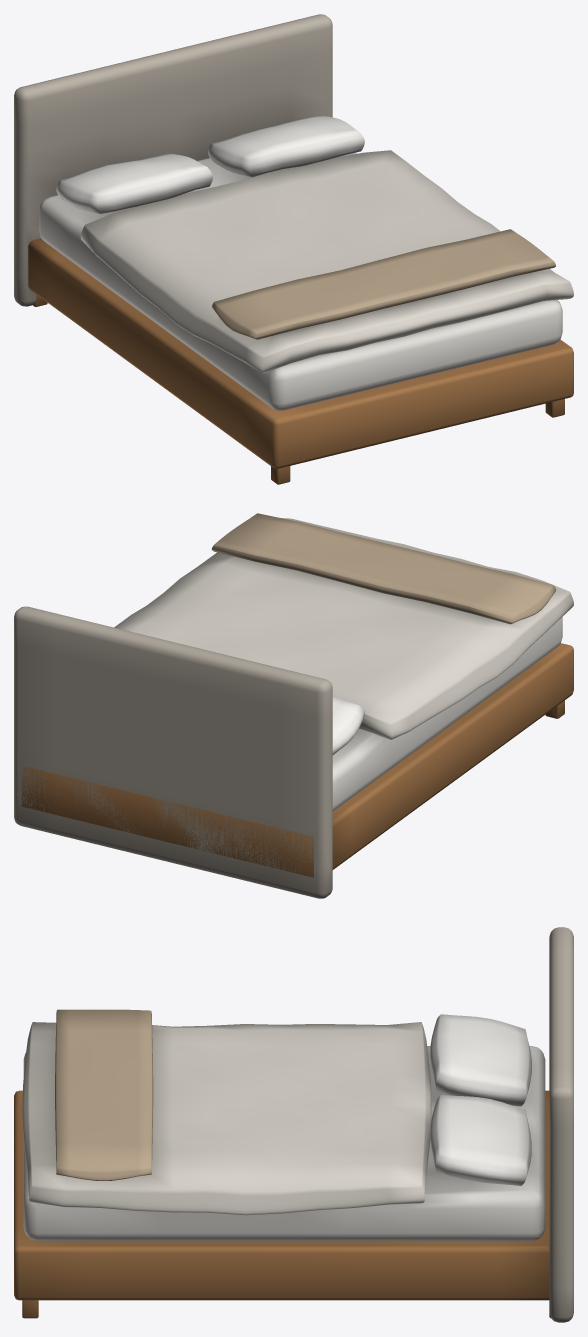
Rendered from lit140.glb.
3 renders of one model, top to bottom at view 1: azimuth 30°, elevation 25°; view 2: azimuth 150°, elevation 25°; view 3: azimuth 270°, elevation 25°, orthographic. The views are drawn at different scales.
Parts seen in each view (by area): view 1: couette, tete, cadre, matelas, plaid, oreillers; view 2: tete, couette, cadre, plaid, matelas, oreillers; view 3: couette, cadre, matelas, plaid, oreillers, tete.
Boxes of the visible parts, left/top/right/bottom form: couette: left=80, top=150, right=573, bottom=373; tete: left=14, top=14, right=332, bottom=306; cadre: left=28, top=238, right=573, bottom=484; matelas: left=39, top=152, right=562, bottom=410; plaid: left=211, top=229, right=555, bottom=339; oreillers: left=56, top=115, right=364, bottom=213; tete: left=14, top=606, right=332, bottom=898; couette: left=114, top=518, right=573, bottom=739; cadre: left=21, top=643, right=573, bottom=877; plaid: left=211, top=513, right=555, bottom=624; matelas: left=332, top=617, right=562, bottom=811; oreillers: left=332, top=697, right=364, bottom=755; couette: left=22, top=1022, right=431, bottom=1215; cadre: left=14, top=1090, right=550, bottom=1318; matelas: left=23, top=1046, right=545, bottom=1241; plaid: left=55, top=1009, right=153, bottom=1180; oreillers: left=430, top=1014, right=531, bottom=1185; tete: left=549, top=927, right=573, bottom=1322.
Size of the model in its own units: 1.48 by 0.95 by 2.05.
